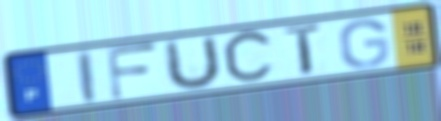C: (219, 27, 277, 88)
F: (104, 41, 163, 102)
G: (336, 17, 392, 70)
I: (74, 48, 99, 105)
T: (282, 21, 326, 79)
U: (164, 33, 224, 93)
